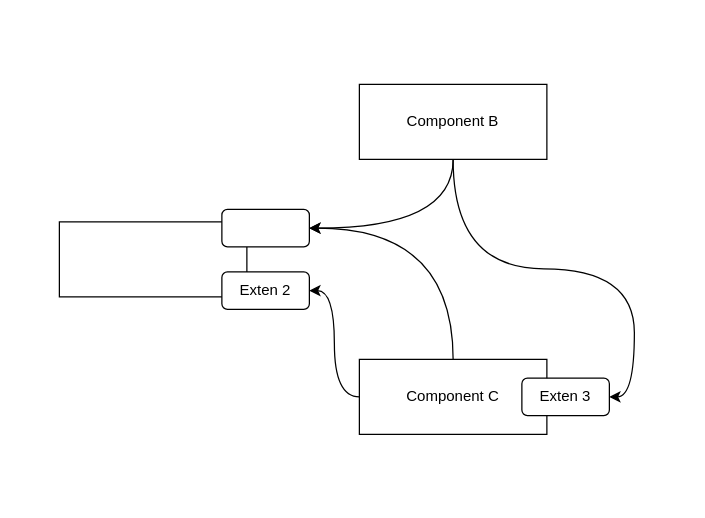
Some shapes in this 705 by 518 pixel diagram are drawn without their labels. Here are the shapes that lost their labels. From the top down, the box of each, then its label:
(221, 208, 309, 247): Exten 1
(58, 221, 247, 297): Component A
